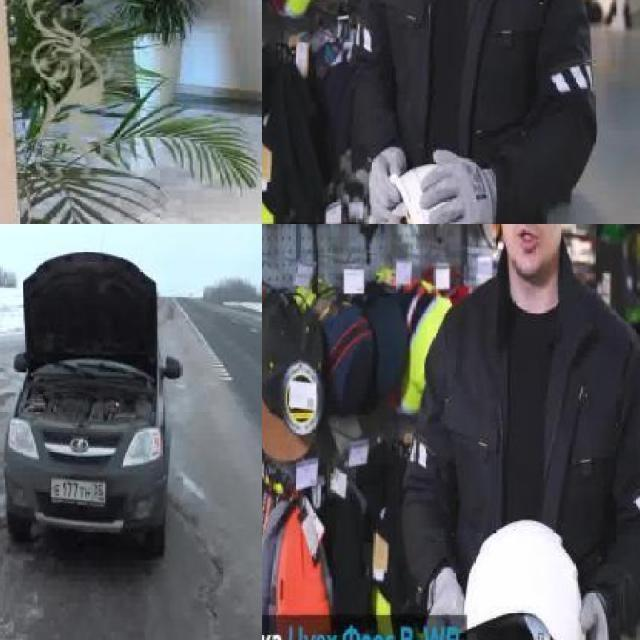apron: (418, 144, 499, 224), (427, 569, 471, 640), (368, 147, 406, 224), (567, 584, 613, 640)
